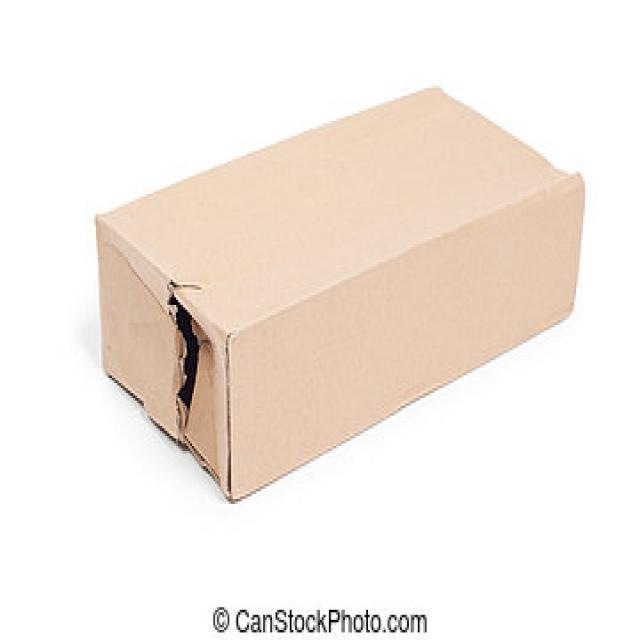damaged: (153, 282, 213, 444)
